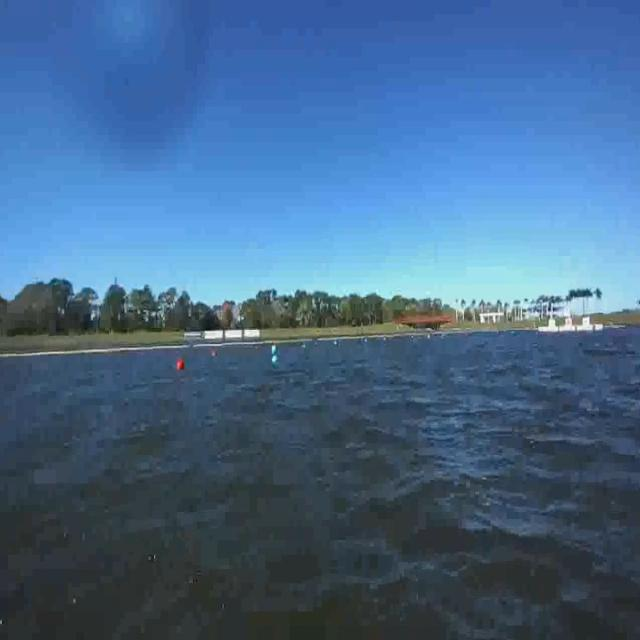green-buoy: (269, 346, 278, 367)
red-buoy: (177, 358, 185, 371)
